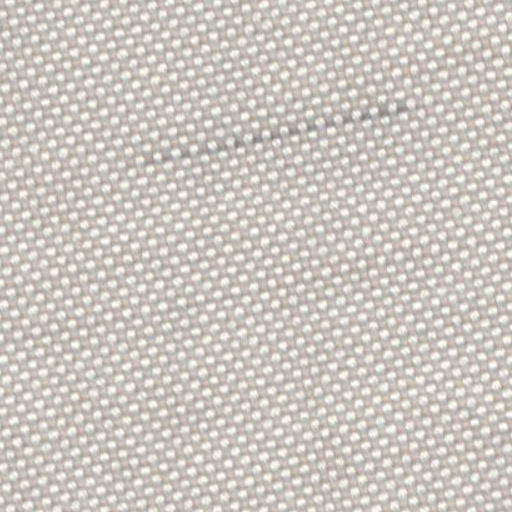WuZi: (142, 100, 400, 159)
